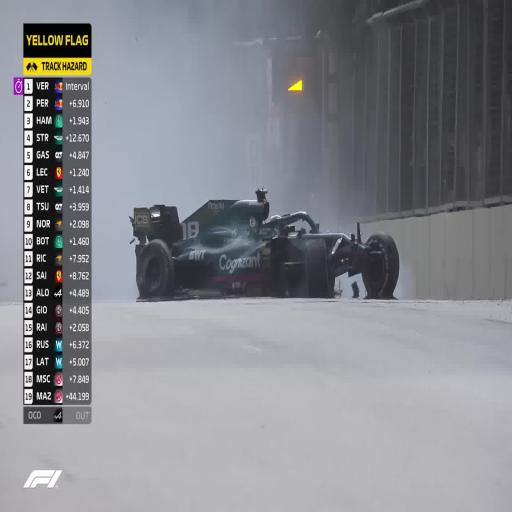f1_car: (130, 190, 399, 298), (134, 238, 134, 239)
